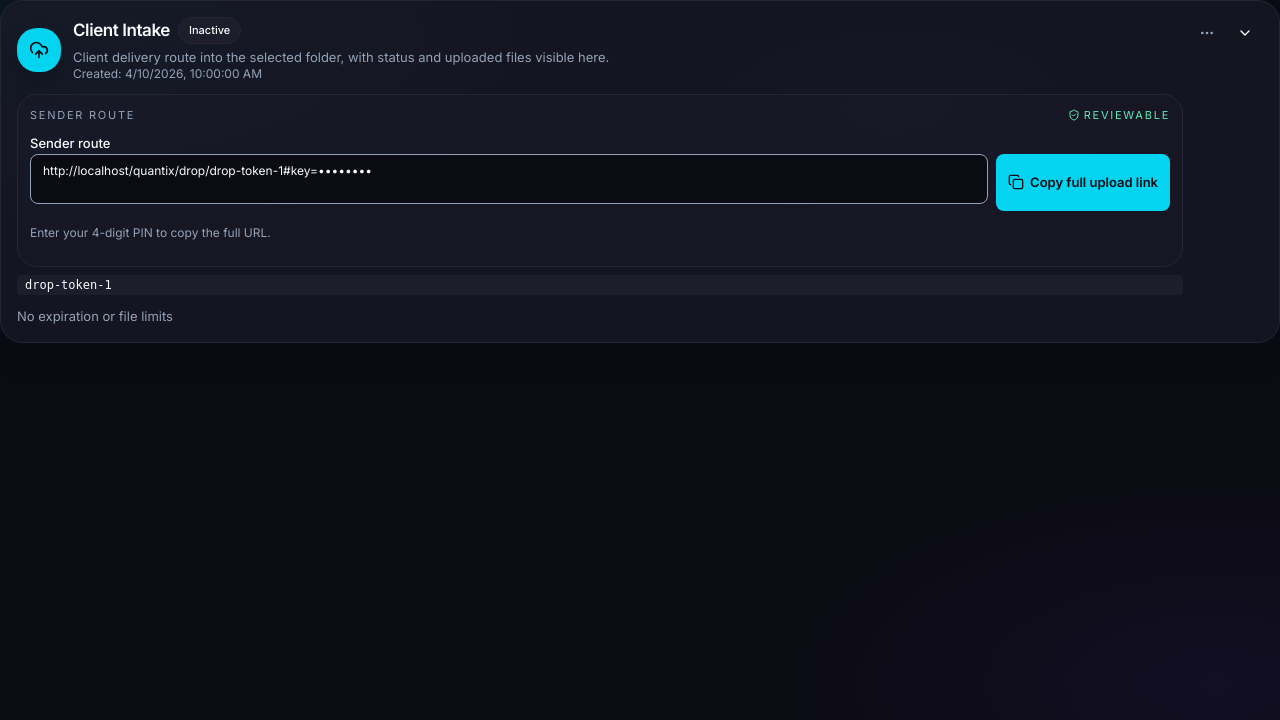
it: UploadLinkCard › hides Seal route when the link is already used (sealed)
The image size is (1280, 720).
Step 1. Click the button named "upload link actions" → x=1207, y=33, box [1191, 17, 1223, 49]
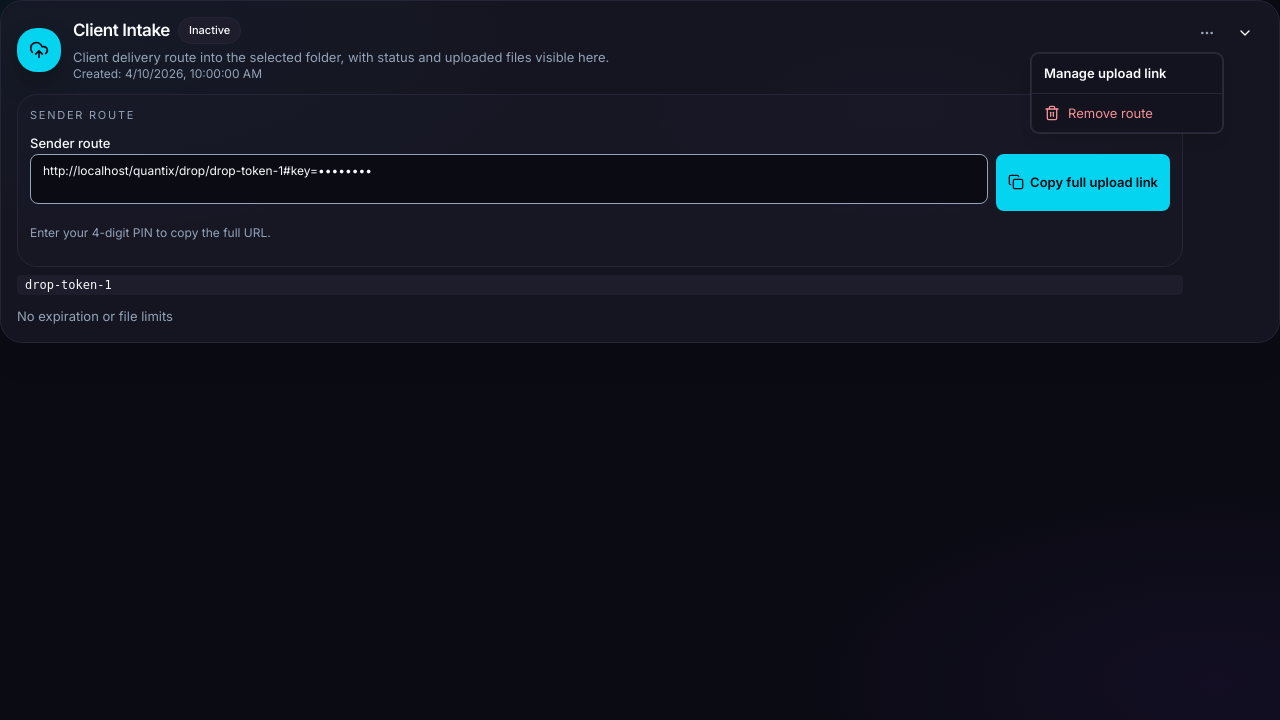
Now the menu item with test id "row-action-remove-route" is shown, box [1044, 105, 1153, 121]
